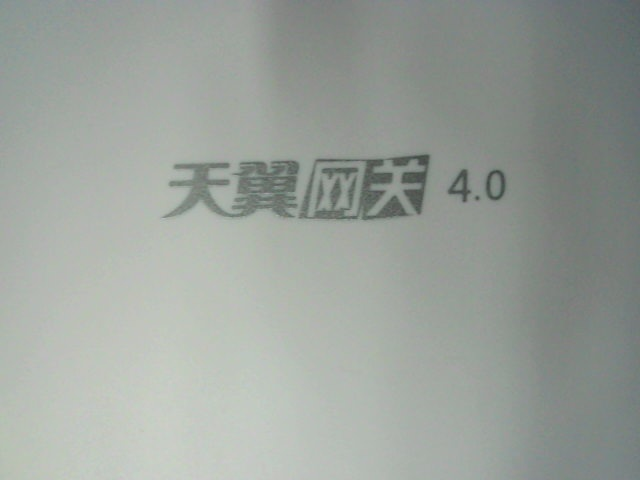BM_TianYiWangGuan: (160, 146, 503, 228)
